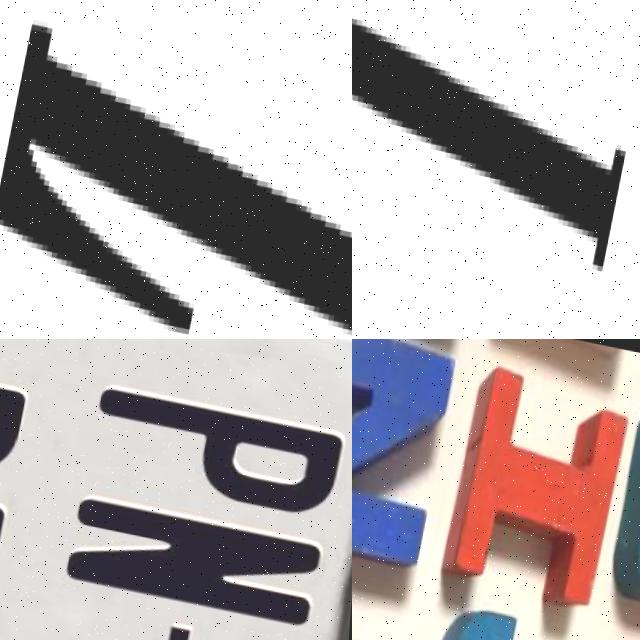I: (352, 11, 632, 261), (442, 365, 635, 601)
J: (417, 591, 601, 640)
L: (0, 15, 352, 339)
N: (65, 488, 331, 625), (352, 339, 463, 582)
P: (82, 377, 351, 515)
